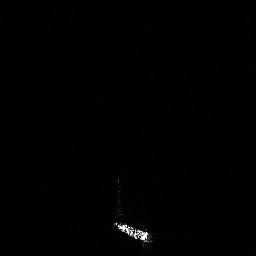ship: (111, 218, 154, 245)
